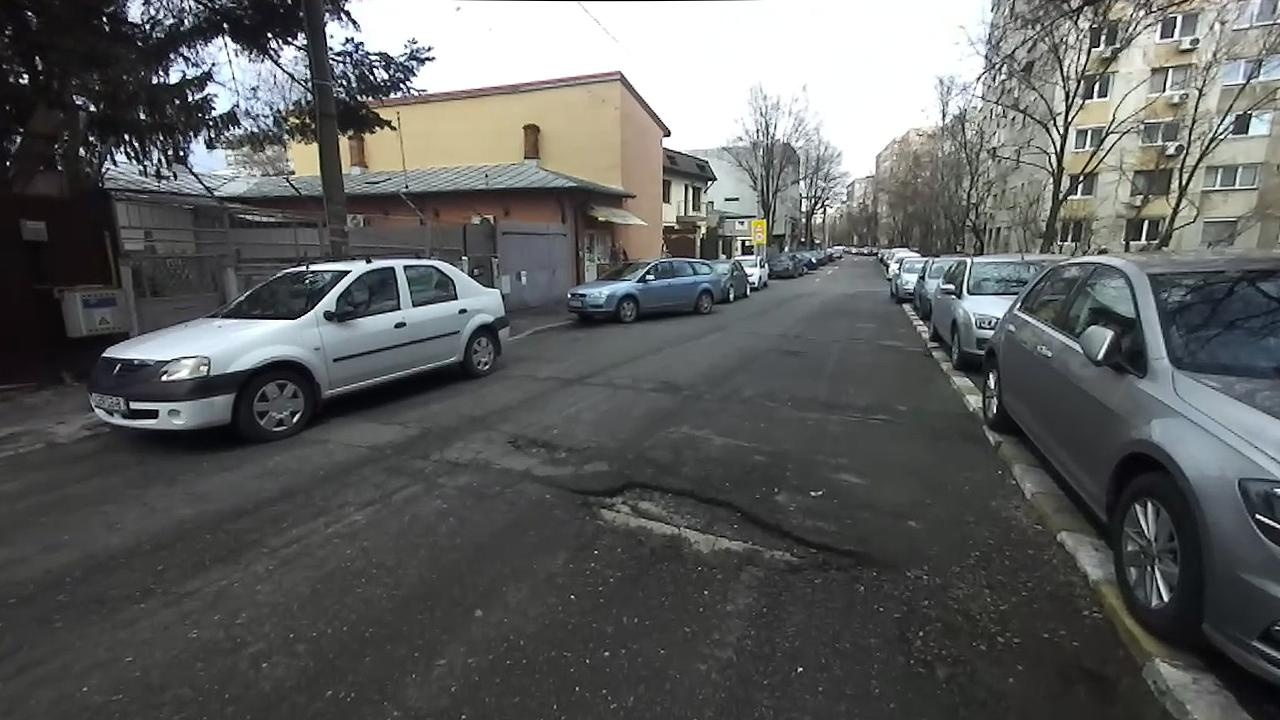pothole: (544, 475, 885, 581), (501, 428, 593, 462)
